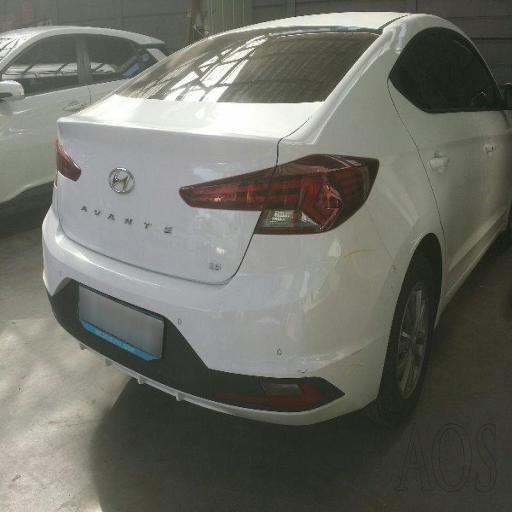scratch: (273, 313, 398, 403)
